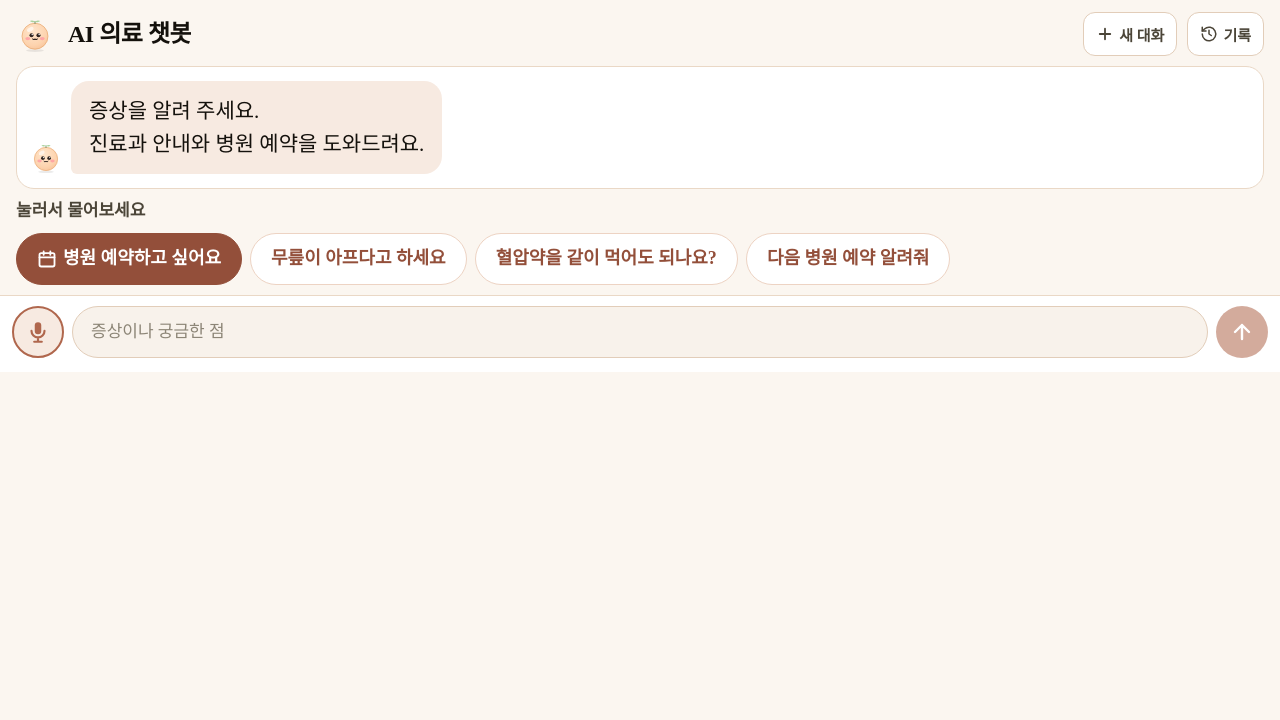
Test case: 보호자 챗봇 예약 › 전화번호 칸이 오면 보호자 문구로 안내한다
Step 1. Click the button "무릎이 아프다고 하세요" → {"x": 358, "y": 259}, box [250,233,467,285]
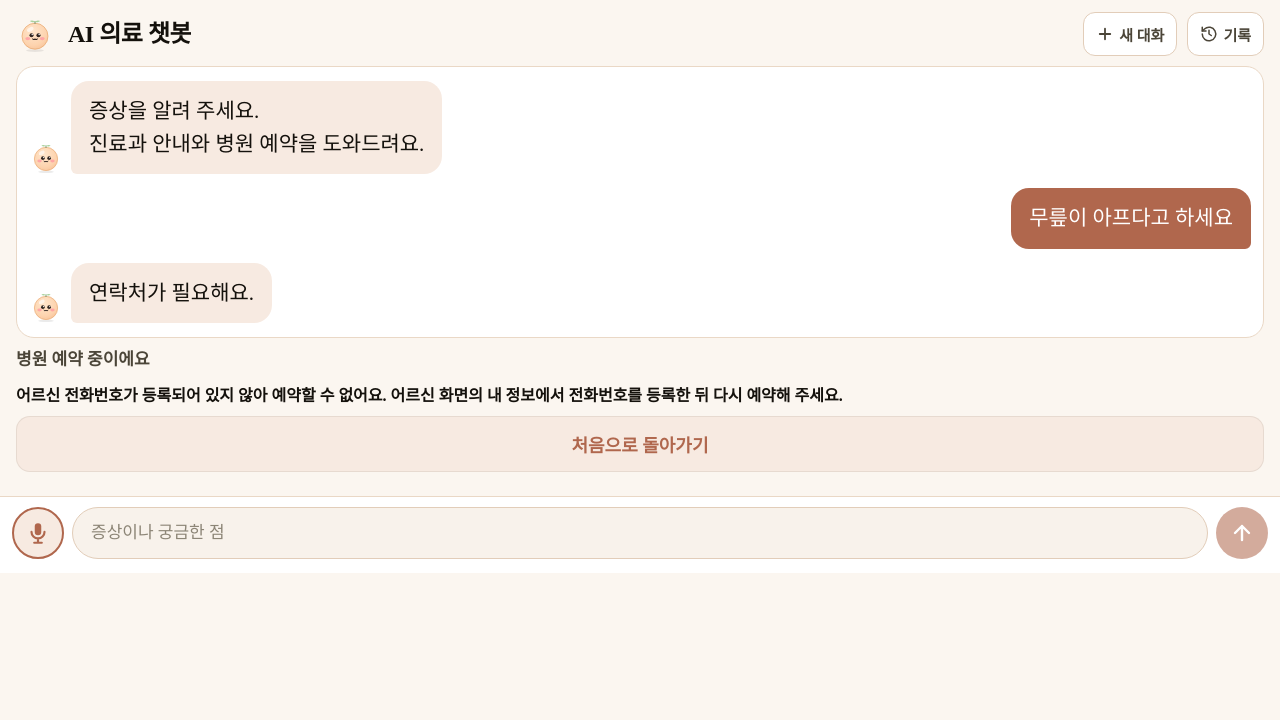
expect the text "어르신 전화번호가 등록되어 있지 않아" is shown: met, box [16,387,843,404]
